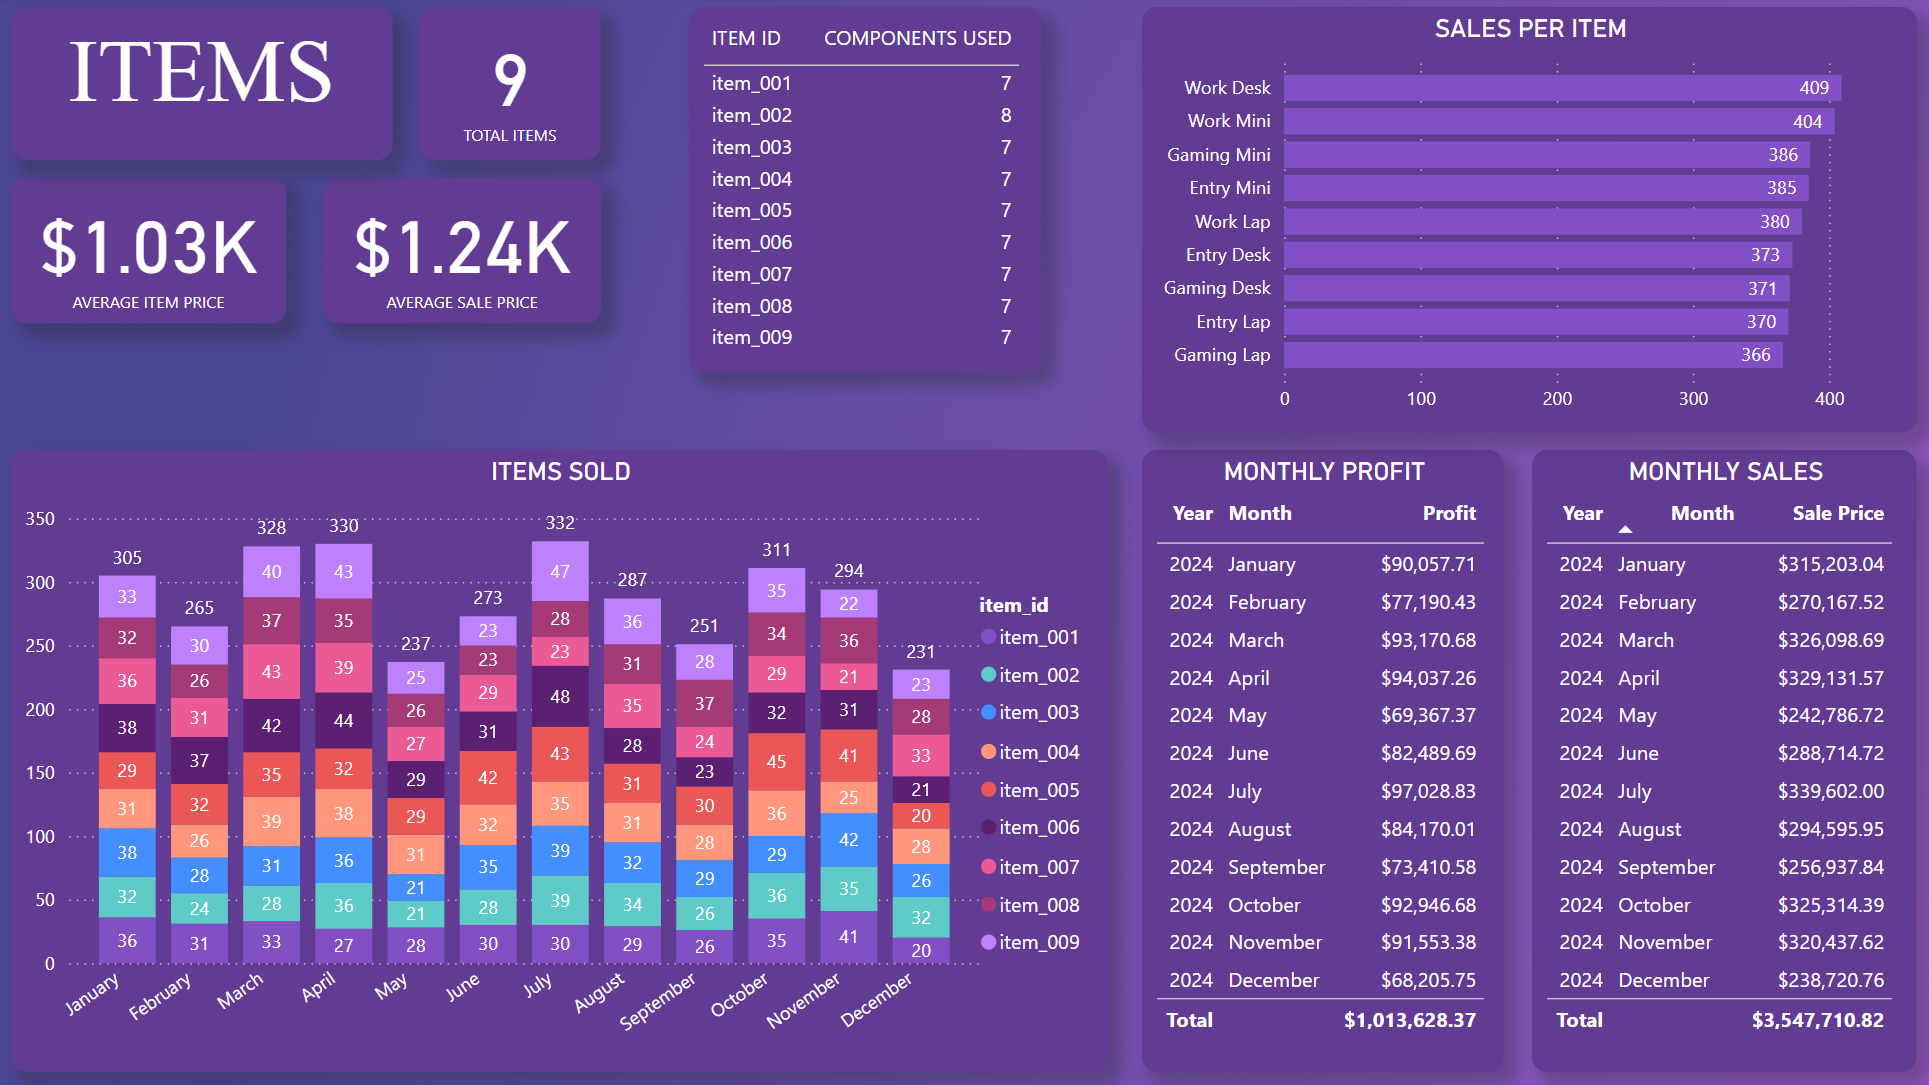

What the dashboard file says about the page in this screenshot:
{"tool":"powerbi","page":{"name":"ITEMS","canvas":[1280,720],"ordinal":1},"visuals":[{"type":"columnChart","title":"ITEMS SOLD","fields":{"Category":["orders.order_date.Variation.Date Hierarchy.Month"],"Y":["Sum(orders.item_quantity)"],"Series":["orders.item_id"]},"box":[8.6,299.3,724.9,411],"z":0},{"type":"tableEx","title":"MONTHLY SALES","fields":{"Values":["dashboard_1.order_date.Variation.Date Hierarchy.Year","dashboard_1.order_date.Variation.Date Hierarchy.Month","Sum(dashboard_1.total_item_price)"]},"box":[1013.7,299.3,254.4,411],"z":1000},{"type":"tableEx","title":"MONTHLY PROFIT","fields":{"Values":["order_cost.order_date.Variation.Date Hierarchy.Year","order_cost.order_date.Variation.Date Hierarchy.Month","Sum(order_cost.order_profit)"]},"box":[756,299.3,239.2,411],"z":2000},{"type":"clusteredBarChart","title":"SALES PER ITEM","fields":{"Category":["dashboard_1.item_name"],"Y":["Sum(dashboard_1.item_quantity)"]},"box":[756,6.6,512.1,280.8],"z":3000},{"type":"card","fields":{"Values":["Count(items.item_id)"]},"box":[278.2,6.6,120.3,101.1],"z":4000},{"type":"card","fields":{"Values":["Avg(dashboard_1.item_price)"]},"box":[8.6,119.6,181.7,95.8],"z":5000},{"type":"card","fields":{"Values":["Avg(dashboard_1.total_item_price)"]},"box":[214.8,119.6,183.7,95.8],"z":6000},{"type":"textbox","box":[8.6,6.6,251.8,101.1],"z":7000},{"type":"tableEx","fields":{"Values":["item_components.item_id","item_components.component_id"]},"box":[456.6,6.6,232.6,240.5],"z":8000}]}

Visuals, with their boxes in screenshot pixels (x1, y1, x2, y2), scaled from the page's 1280x720 canvas onto the 1929x1085 screenshot:
"ITEMS SOLD" columnChart: <region>13, 451, 1105, 1070</region>
"MONTHLY SALES" tableEx: <region>1528, 451, 1911, 1070</region>
"MONTHLY PROFIT" tableEx: <region>1139, 451, 1500, 1070</region>
"SALES PER ITEM" clusteredBarChart: <region>1139, 10, 1911, 433</region>
card - Count(items.item_id): <region>419, 10, 601, 162</region>
card - Avg(dashboard_1.item_price): <region>13, 180, 287, 325</region>
card - Avg(dashboard_1.total_item_price): <region>324, 180, 601, 325</region>
textbox: <region>13, 10, 392, 162</region>
tableEx - item_components.item_id x item_components.component_id: <region>688, 10, 1039, 372</region>
